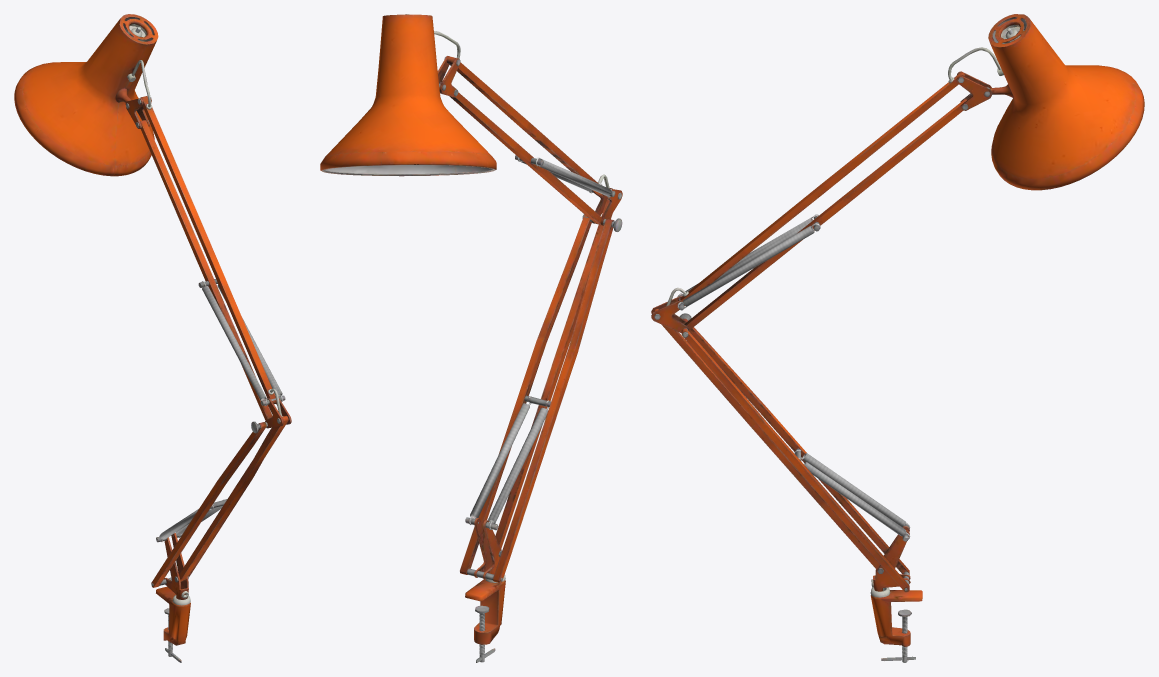
Rendered from deskLamp.glb.
The picture shows the model from 3 angles, left to right: view 1: azimuth 30°, elevation 25°; view 2: azimuth 150°, elevation 25°; view 3: azimuth 270°, elevation 25°; orthographic projection. The views are drawn at different scales.
Parts seen in each view (by area): view 1: desk_lamp_arm_01; view 2: desk_lamp_arm_01; view 3: desk_lamp_arm_01.
Boxes of the visible parts, bbox=[...] form: desk_lamp_arm_01: bbox=[14, 14, 291, 662]; desk_lamp_arm_01: bbox=[320, 14, 622, 662]; desk_lamp_arm_01: bbox=[651, 14, 1144, 662].
Bounding box in the file's own units: 0.2018 × 0.8926 × 0.6139.
2 materials, 2 textured.
